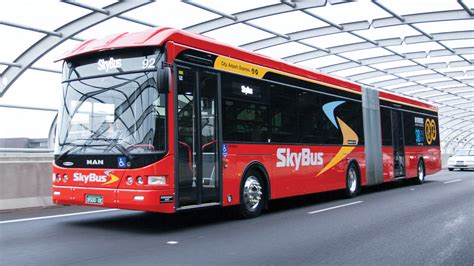bus: (56, 35, 444, 211)
